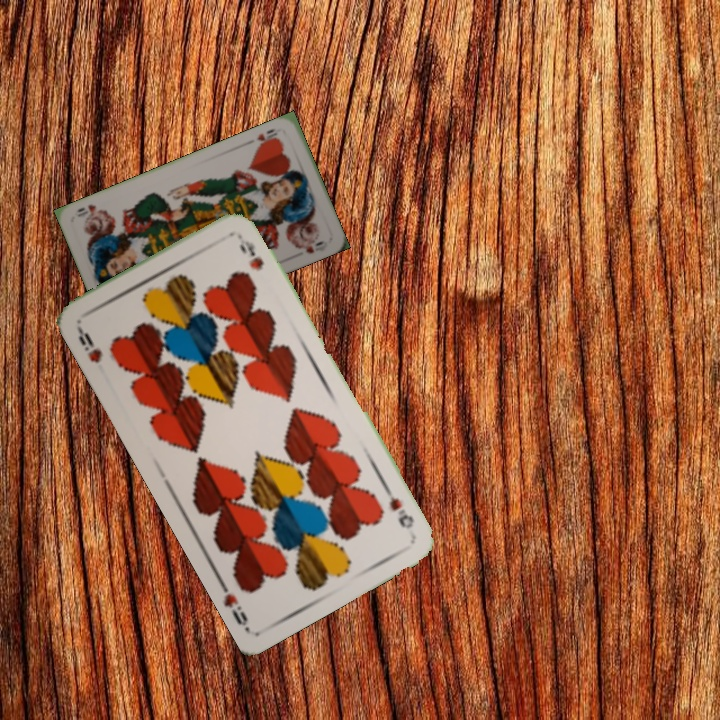H9: (380, 483, 417, 532), (74, 324, 105, 366)
HO: (252, 125, 281, 150)
